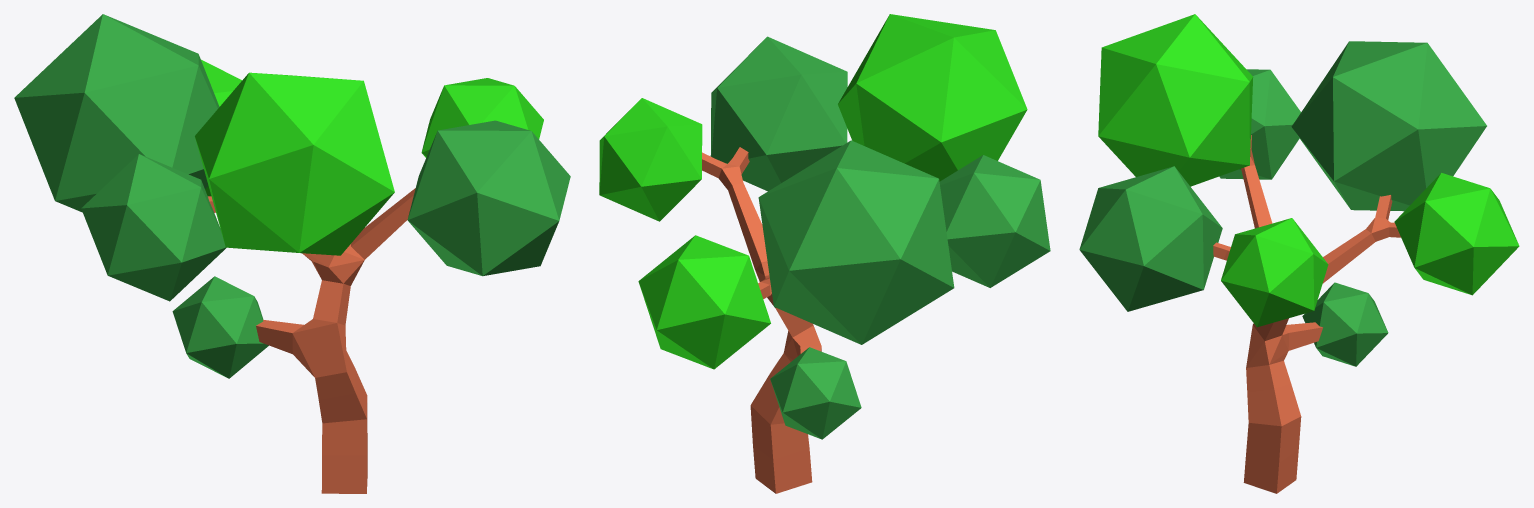
Rendered from arvore2.glb.
3 views of the same model, side by side, from view 1: azimuth 30°, elevation 25°; view 2: azimuth 150°, elevation 25°; view 3: azimuth 270°, elevation 25° (orthographic). The views are drawn at different scales.
Visible parts, largest first — view 1: Icosphere.009, Icosphere.012, Icosphere.007, Icosphere.010, Arvore 3, Icosphere.013, Icosphere.008, Icosphere.011; view 2: Icosphere.012, Icosphere.009, Icosphere.007, Icosphere.011, Icosphere.010, Icosphere.008, Arvore 3, Icosphere.013; view 3: Icosphere.012, Icosphere.009, Icosphere.007, Arvore 3, Icosphere.011, Icosphere.008, Icosphere.013, Icosphere.010.
Part boxes in pixels (x1,y1,x2,y2): Icosphere.009: [195, 72, 394, 255]; Icosphere.012: [14, 14, 219, 212]; Icosphere.007: [407, 120, 570, 276]; Icosphere.010: [81, 154, 226, 301]; Arvore 3: [208, 188, 415, 493]; Icosphere.013: [172, 276, 268, 378]; Icosphere.008: [421, 78, 543, 157]; Icosphere.011: [201, 59, 241, 196]; Icosphere.012: [758, 140, 954, 344]; Icosphere.009: [838, 14, 1027, 181]; Icosphere.007: [710, 36, 847, 191]; Icosphere.011: [638, 235, 770, 369]; Icosphere.010: [939, 155, 1050, 287]; Icosphere.008: [599, 98, 702, 221]; Arvore 3: [702, 147, 821, 493]; Icosphere.013: [770, 347, 861, 439]; Icosphere.012: [1291, 41, 1486, 211]; Icosphere.009: [1098, 14, 1253, 186]; Icosphere.007: [1079, 166, 1222, 311]; Arvore 3: [1213, 135, 1400, 493]; Icosphere.011: [1394, 173, 1519, 295]; Icosphere.008: [1221, 218, 1328, 327]; Icosphere.013: [1302, 282, 1388, 366]; Icosphere.010: [1219, 69, 1300, 179].
Size of the model in its own units: 5.91 by 5.89 by 5.72.
